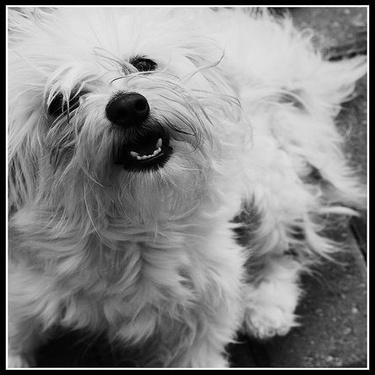dog: (7, 3, 363, 367)
